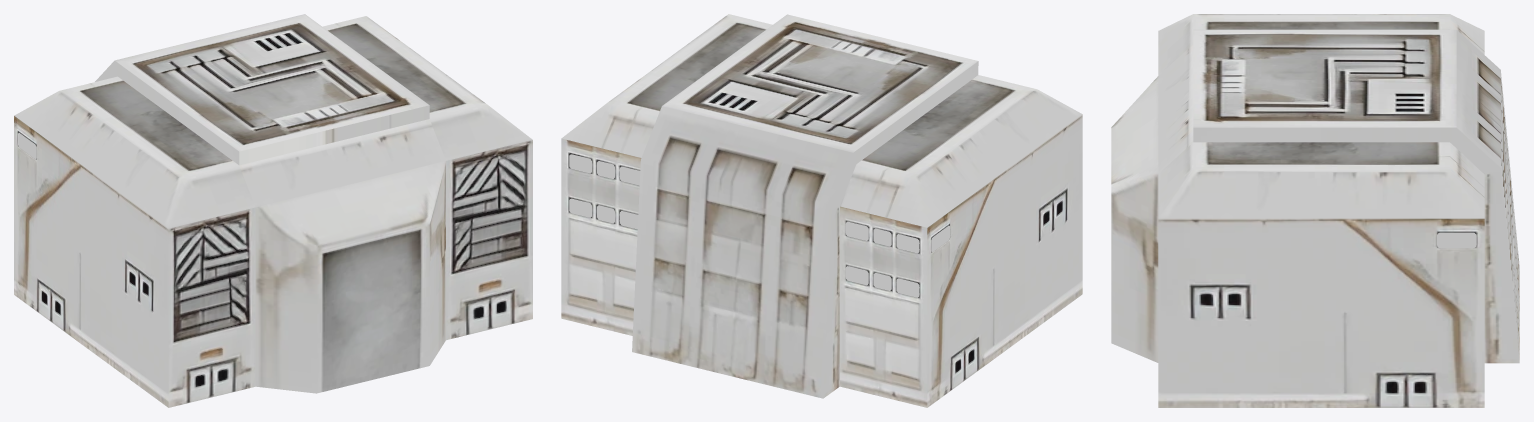
Rendered from centerlobby_hdtex.glb.
The picture shows the model from 3 angles, left to right: view 1: azimuth 30°, elevation 25°; view 2: azimuth 150°, elevation 25°; view 3: azimuth 270°, elevation 25°; orthographic projection. The views are drawn at different scales.
Parts seen in each view (by area): view 1: connector; view 2: connector, LitWin_CenterLobby; view 3: connector, LitWin_CenterLobby.
Part boxes in pixels (box(x1,y1,x2,y2)): connector: box(14, 14, 532, 407); connector: box(561, 14, 1082, 407); LitWin_CenterLobby: box(569, 154, 950, 297); connector: box(1111, 14, 1519, 407); LitWin_CenterLobby: box(1437, 232, 1476, 248).
Bounding box in the file's own units: 25.52 × 14.92 × 23.44.
1 material, 1 textured.
